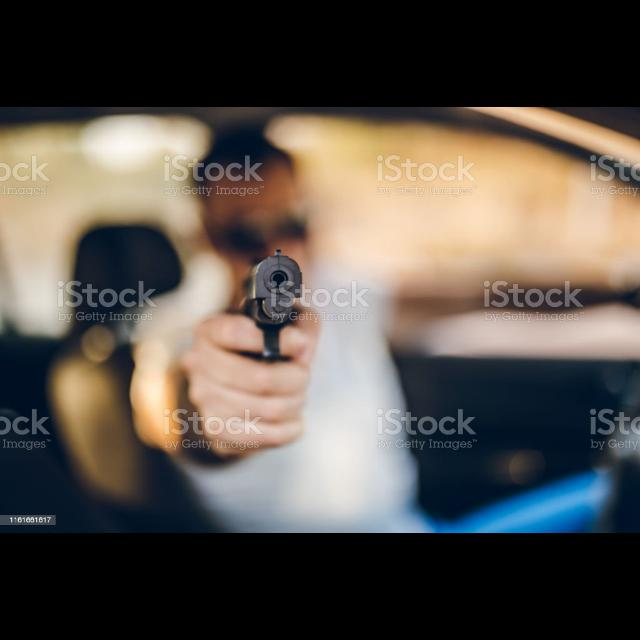handgun: (230, 246, 306, 374)
